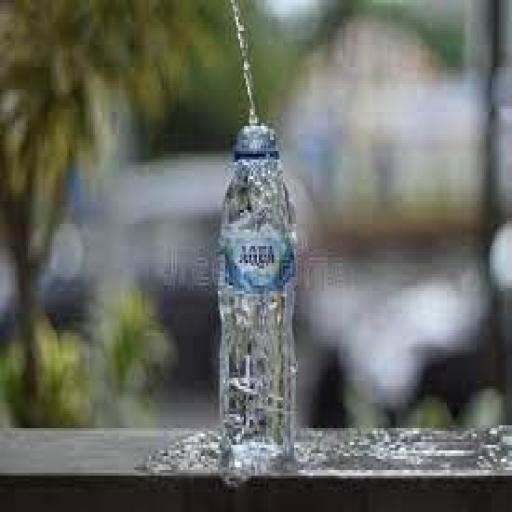bottle: (212, 120, 306, 474)
